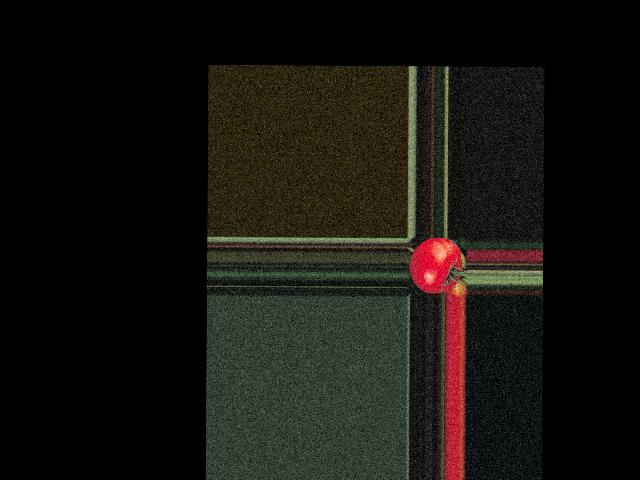tomato: (408, 237, 461, 293)
